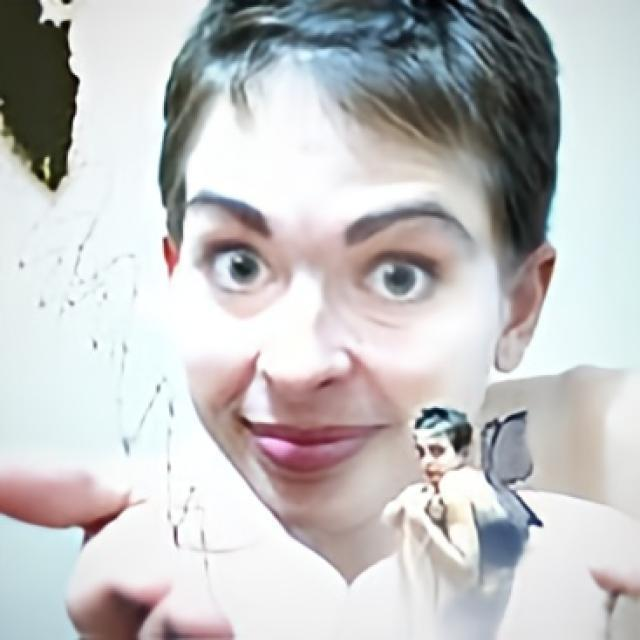surprise: (175, 47, 502, 549)
